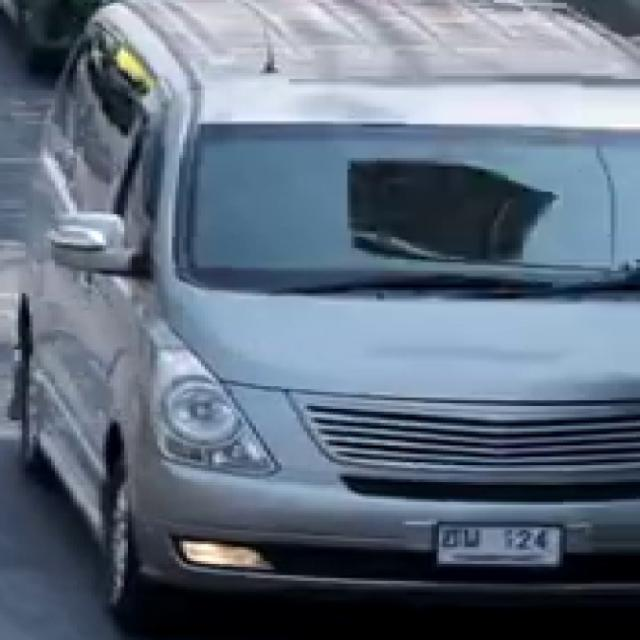plate: (436, 522, 564, 566)
